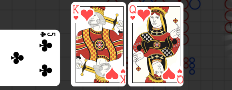4C: (38, 30, 56, 38)
9H: (128, 3, 136, 21)
